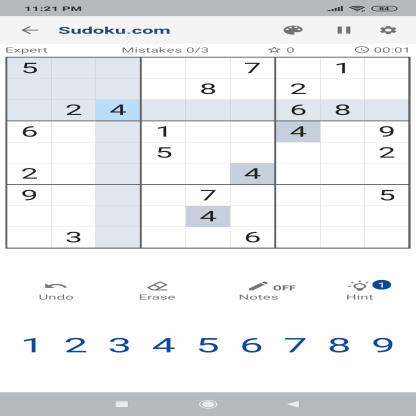sudoku: (0, 53, 413, 251)
